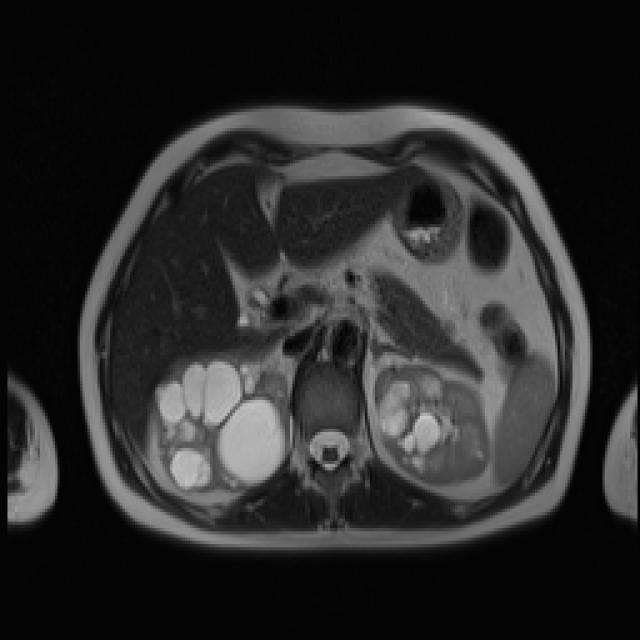sag: (149, 337, 298, 494)
sol: (373, 362, 491, 486)
